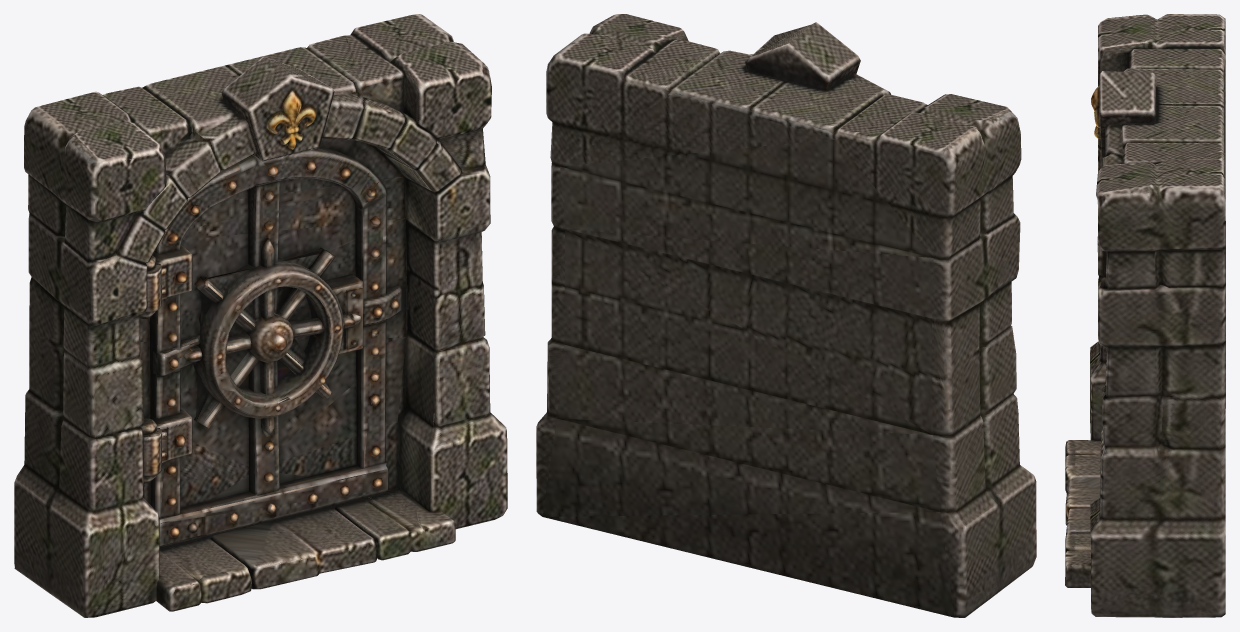
The model's file is vault.glb.
3 renders of one model, left to right at view 1: azimuth 30°, elevation 25°; view 2: azimuth 150°, elevation 25°; view 3: azimuth 270°, elevation 25°, orthographic. The views are drawn at different scales.
Visible parts, largest first — view 1: Mesh_0; view 2: Mesh_0; view 3: Mesh_0.
Part boxes in pixels (x1,y1,x2,y2): Mesh_0: (14,14,507,617); Mesh_0: (536,14,1036,617); Mesh_0: (1065,14,1225,617).
Size of the model in its own units: 0.8652 by 0.9541 by 0.3076.
1 material, 1 textured.
